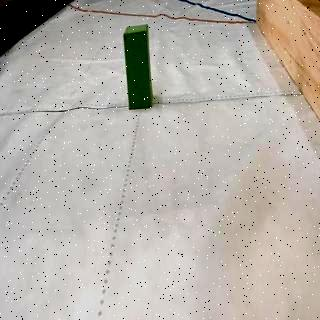greenbox: (125, 28, 152, 108)
